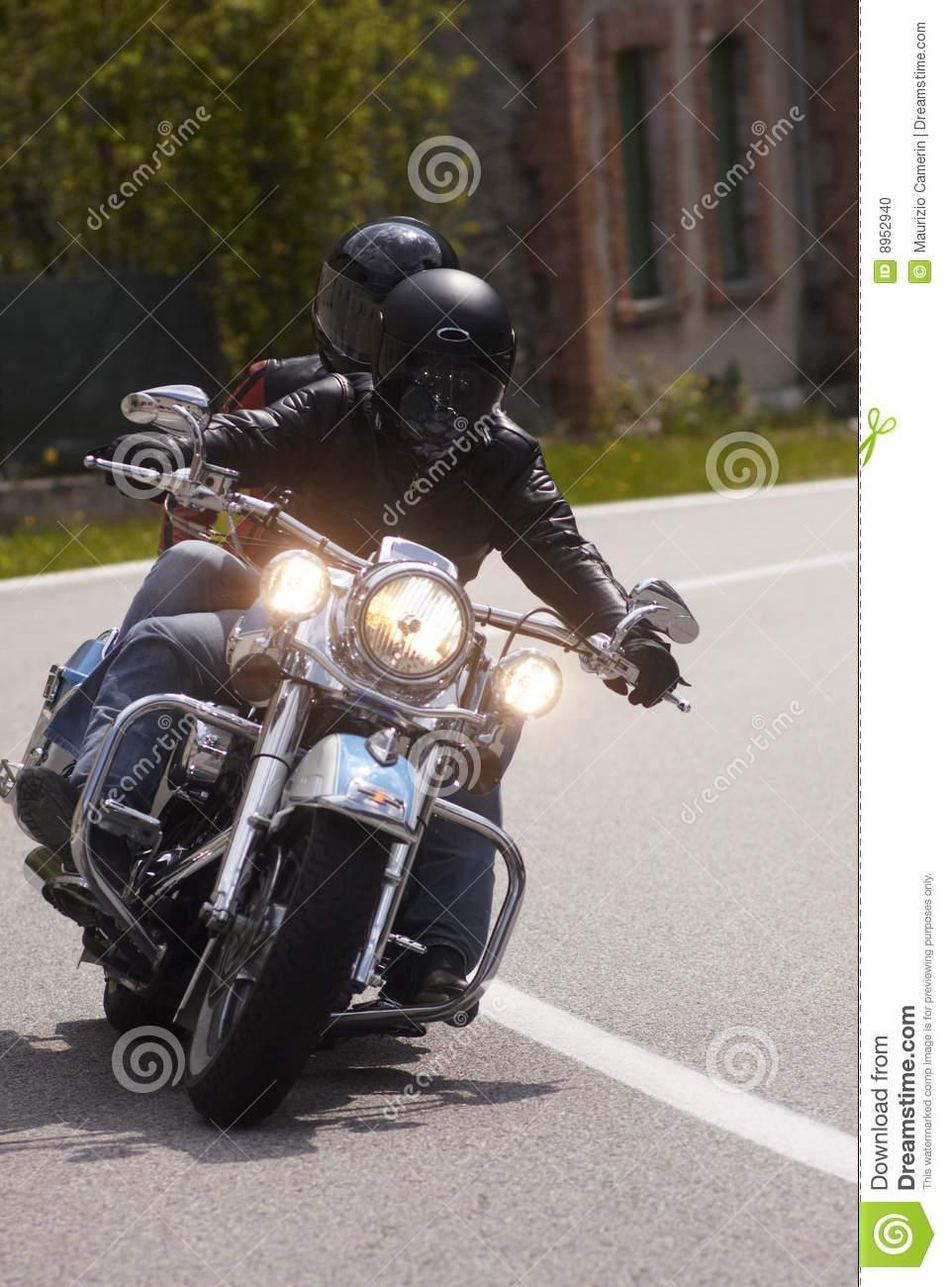motorcycle: (10, 344, 710, 1166)
